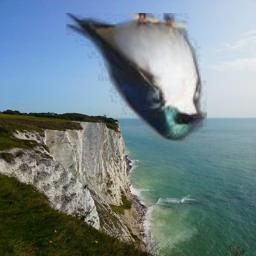Swallow: (66, 13, 207, 143)
